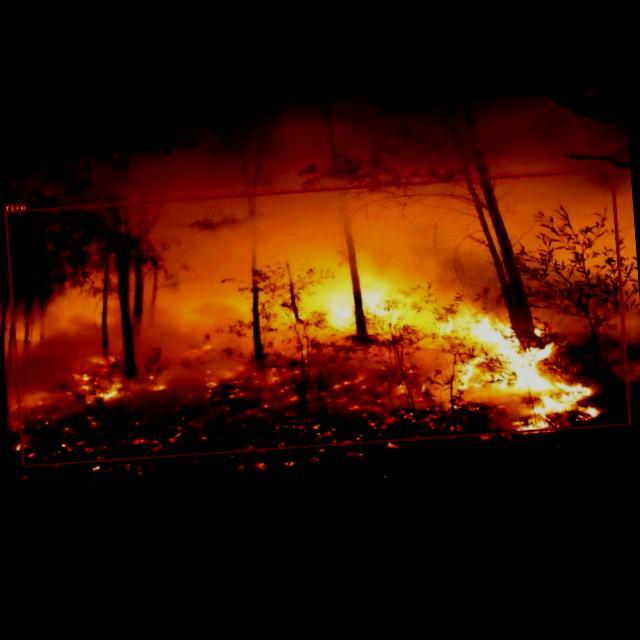fire: (3, 168, 630, 466)
